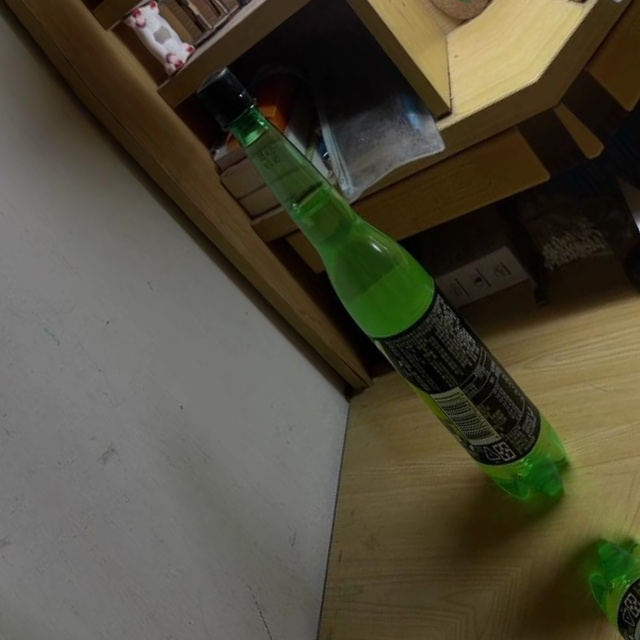Mountain-Dew: (173, 49, 594, 527)
